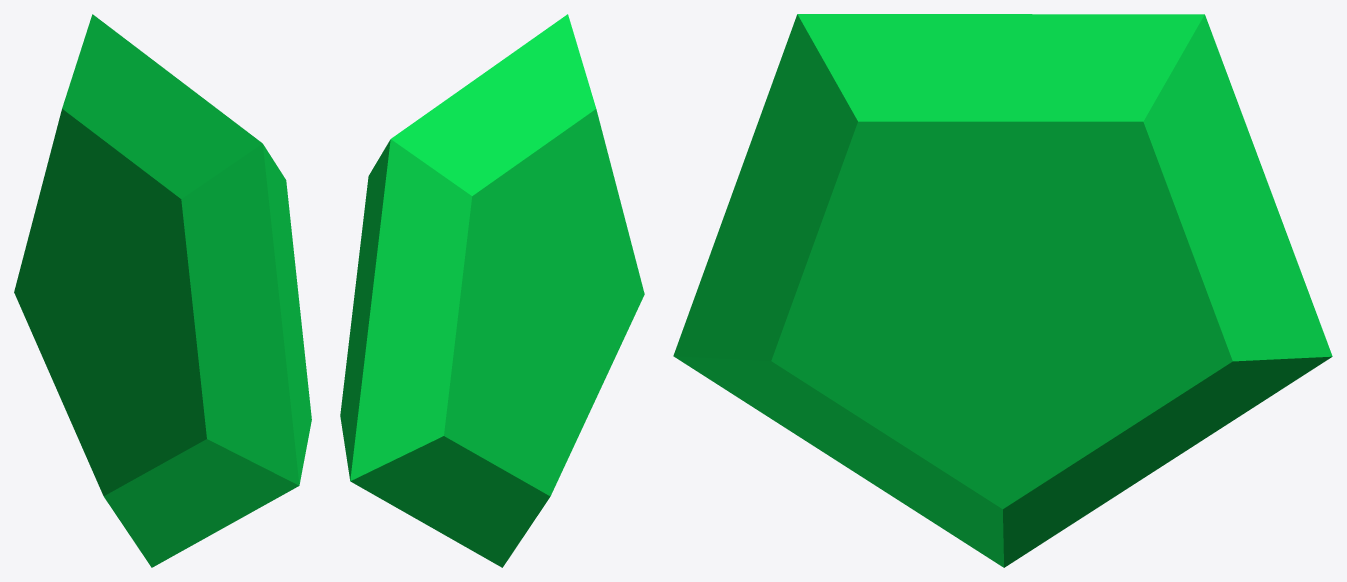
Rendered from emerald_1.fbx.
The picture shows the model from 3 angles, left to right: view 1: azimuth 30°, elevation 25°; view 2: azimuth 150°, elevation 25°; view 3: azimuth 270°, elevation 25°; orthographic projection. The views are drawn at different scales.
Visible parts, largest first — view 1: emerald_1; view 2: emerald_1; view 3: emerald_1.
Part boxes in pixels (x1=…): emerald_1: x1=14, y1=14, x2=311, y2=567; emerald_1: x1=340, y1=14, x2=644, y2=567; emerald_1: x1=673, y1=14, x2=1332, y2=567.
Bounding box in the file's own units: 51.16 × 193 × 203.
